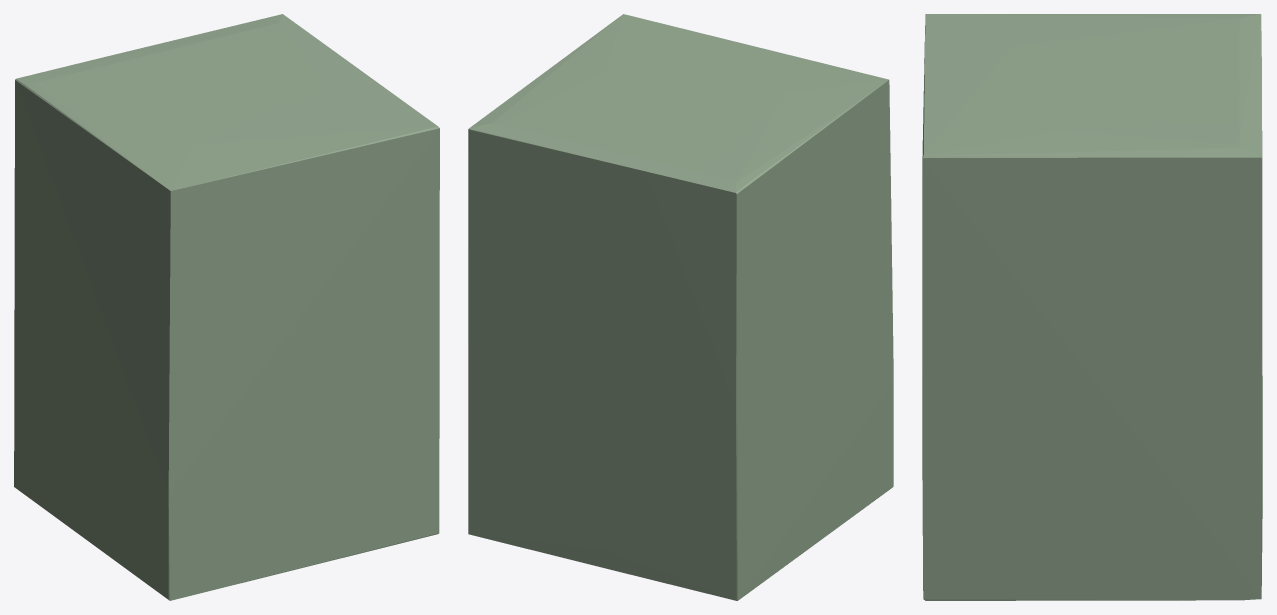
The model's file is box_corrugated_white_b26.glb.
The picture shows the model from 3 angles, left to right: view 1: azimuth 30°, elevation 25°; view 2: azimuth 150°, elevation 25°; view 3: azimuth 270°, elevation 25°; orthographic projection. The views are drawn at different scales.
Parts seen in each view (by area): view 1: geometry_0; view 2: geometry_0; view 3: geometry_0.
Boxes of the visible parts, bbox=[...] form: geometry_0: bbox=[14, 14, 439, 600]; geometry_0: bbox=[468, 14, 893, 600]; geometry_0: bbox=[922, 14, 1262, 600].
Bounding box in the file's own units: 0.3315 × 0.4786 × 0.3309.
